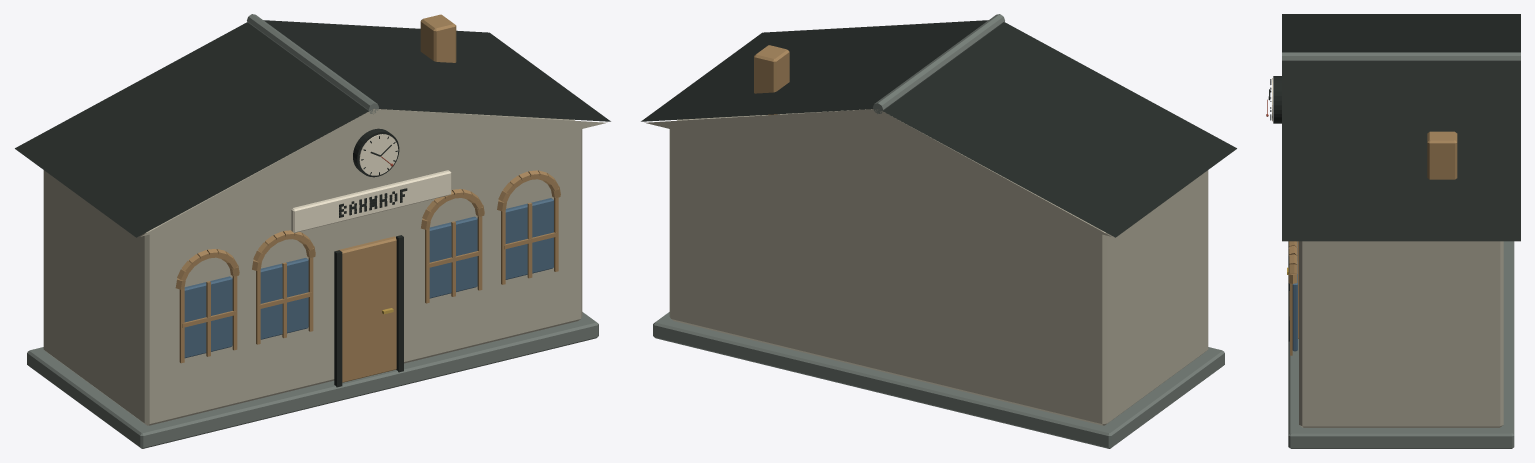
File: regional-station.glb
The picture shows the model from 3 angles, left to right: view 1: azimuth 30°, elevation 25°; view 2: azimuth 150°, elevation 25°; view 3: azimuth 270°, elevation 25°; orthographic projection. The views are drawn at different scales.
Parts seen in each view (by area): view 1: regional-station; view 2: regional-station; view 3: regional-station.
Boxes of the visible parts, left/top/right/bottom form: regional-station: left=15, top=14, right=610, bottom=448; regional-station: left=641, top=14, right=1236, bottom=448; regional-station: left=1266, top=14, right=1520, bottom=448.
Bounding box in the file's own units: 6.3 × 3.72 × 2.98.
